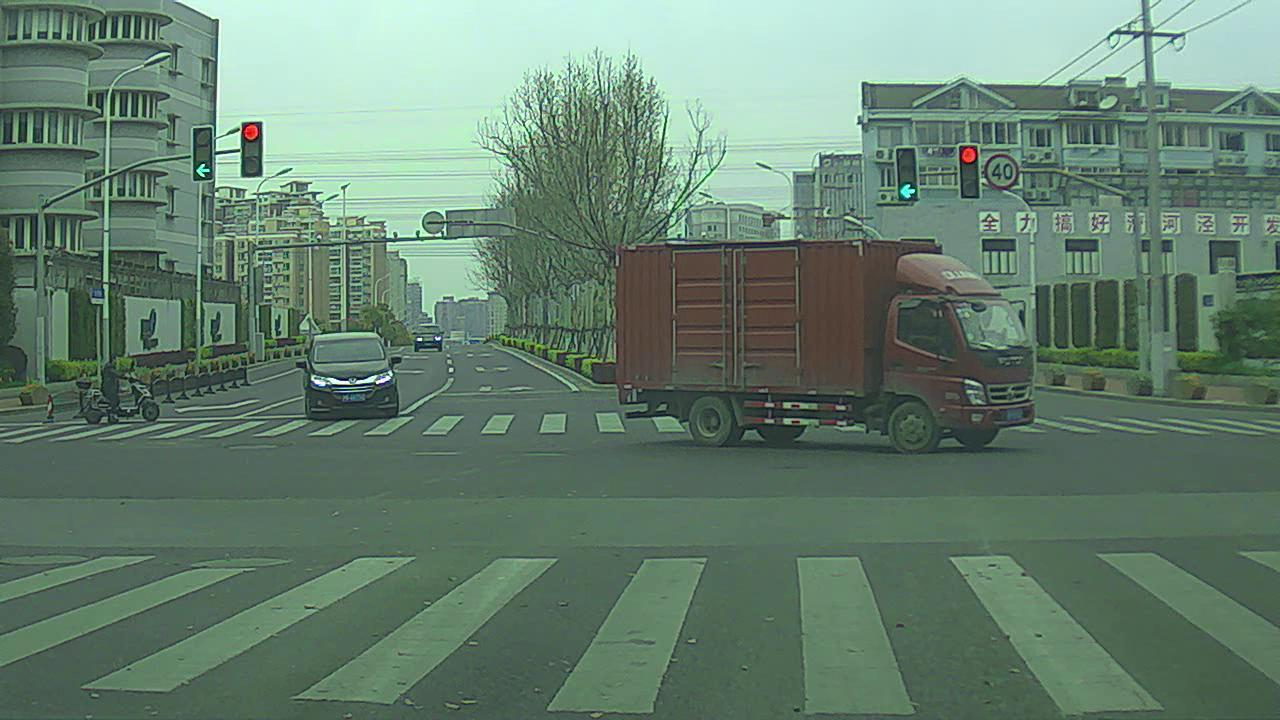traffic_light: (956, 142, 983, 205), (190, 125, 216, 184), (897, 147, 922, 201), (240, 122, 263, 176)
